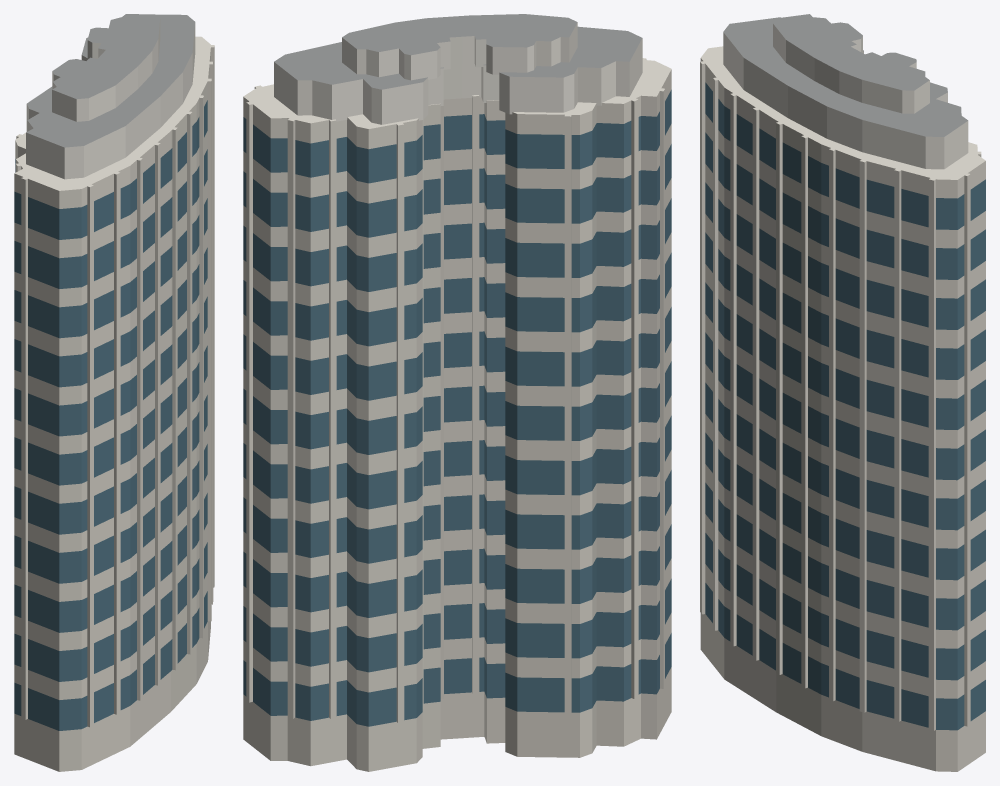
File: east_tower_w134679980.glb
3 views of the same model, side by side, from view 1: azimuth 30°, elevation 25°; view 2: azimuth 150°, elevation 25°; view 3: azimuth 270°, elevation 25° (orthographic). The views are drawn at different scales.
Visible parts, largest first — view 1: East_Tower; view 2: East_Tower; view 3: East_Tower.
Part boxes in pixels (x1,y1,x2,y2): East_Tower: (14,14,214,771); East_Tower: (243,14,671,771); East_Tower: (700,14,985,771).
Size of the model in its own units: 64.99 by 140 by 56.01.
